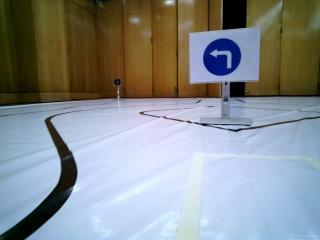left: (195, 30, 257, 82)
